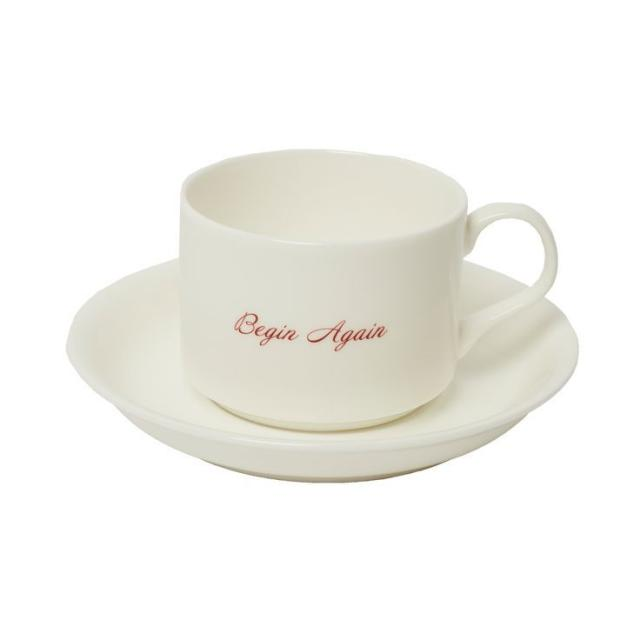glass cup: (179, 149, 559, 433)
